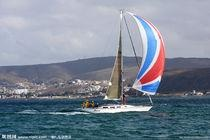fanchuan: (74, 4, 165, 117)
